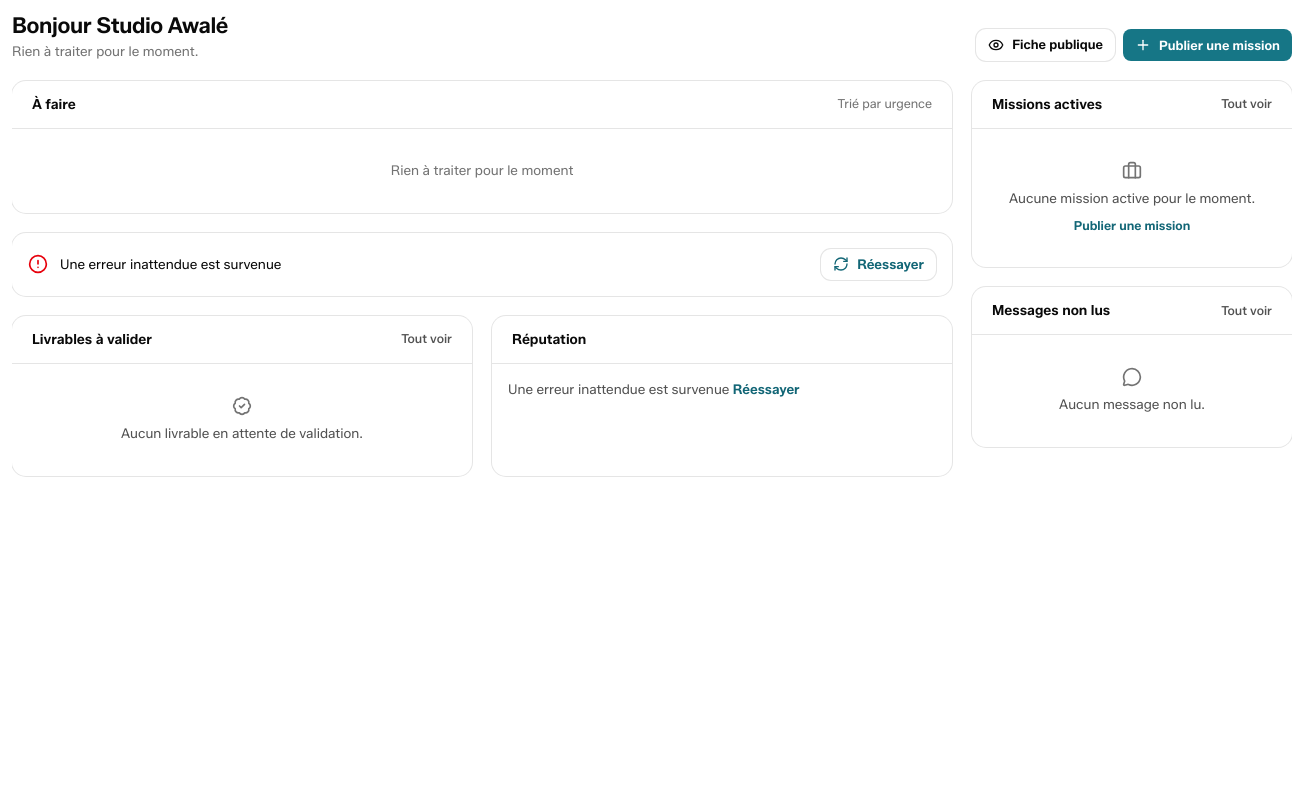
Test: ProducerDashboardPage › KPI row › shows an error with a working retry when the stats fail
Expected: the message with test id "stats-error" is shown, [12,233,952,296]
What coordinates should you click on to do the following:
click the button with test id "retry-button"
I would click on:
 (879, 264)
Its box is [821,249,936,280].
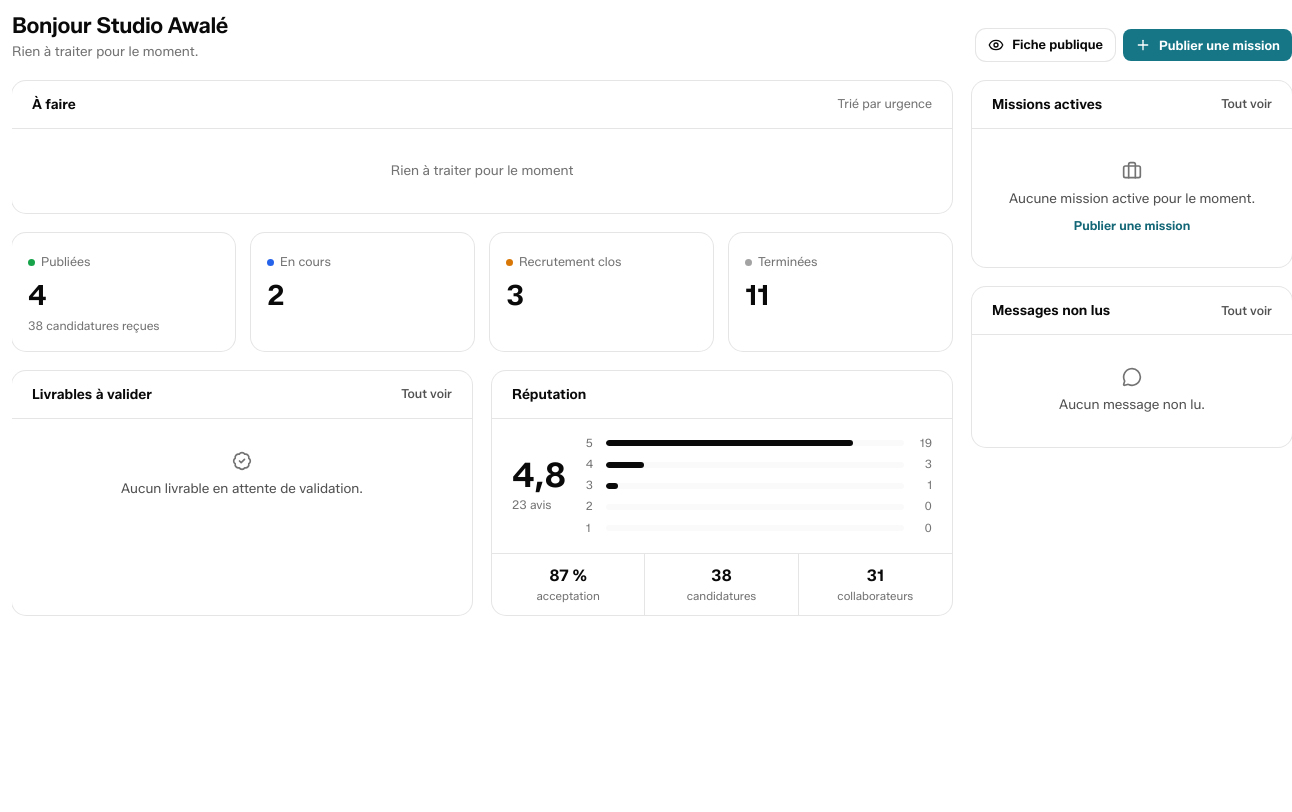
Expected: the element with test id "kpi-cards-grid" is shown, [12,233,952,351]
